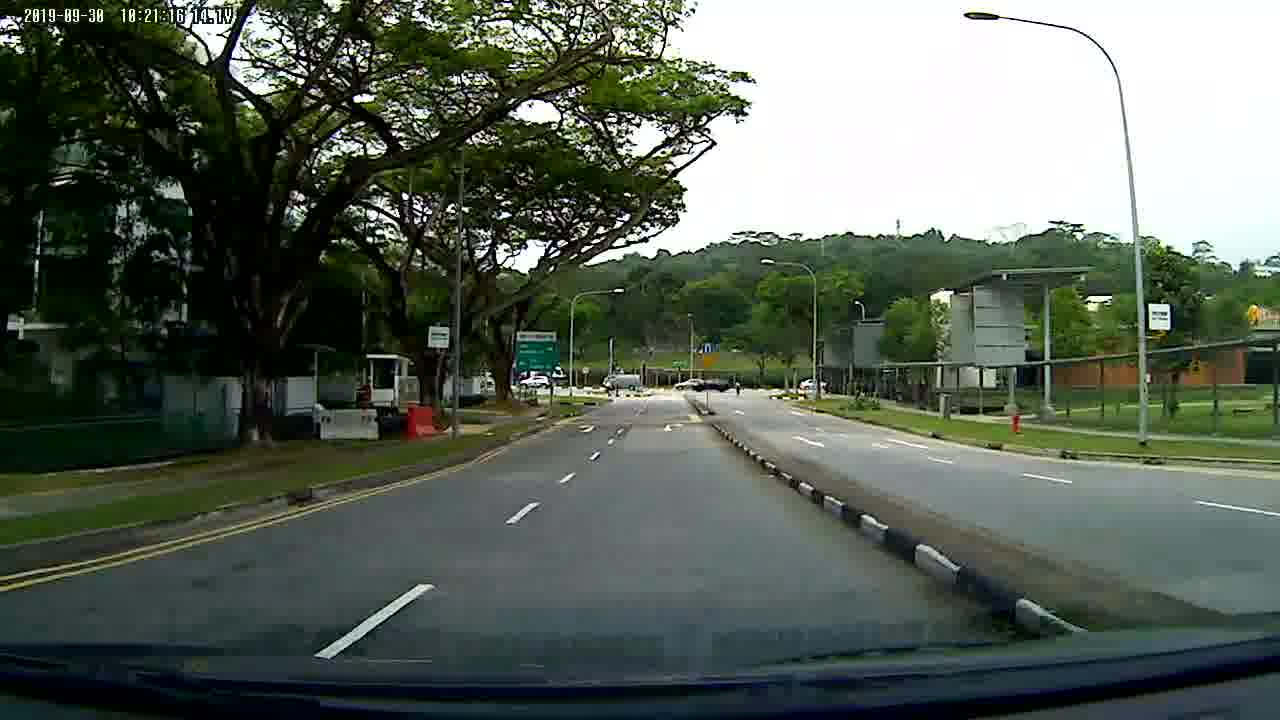car: (518, 375, 553, 391)
